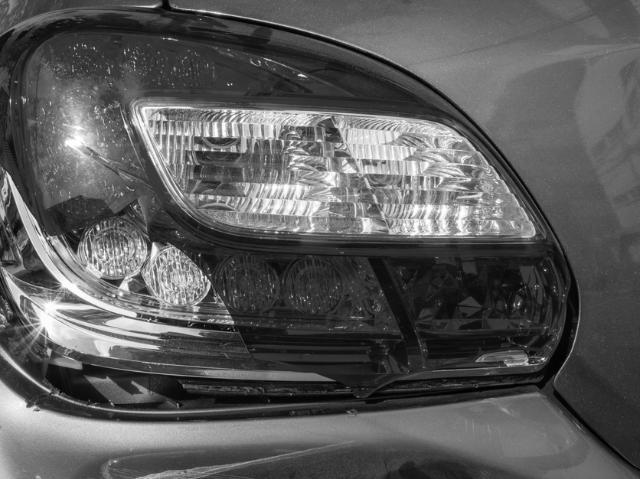Bumper: (51, 429, 538, 479)
Light: (0, 34, 521, 413)
